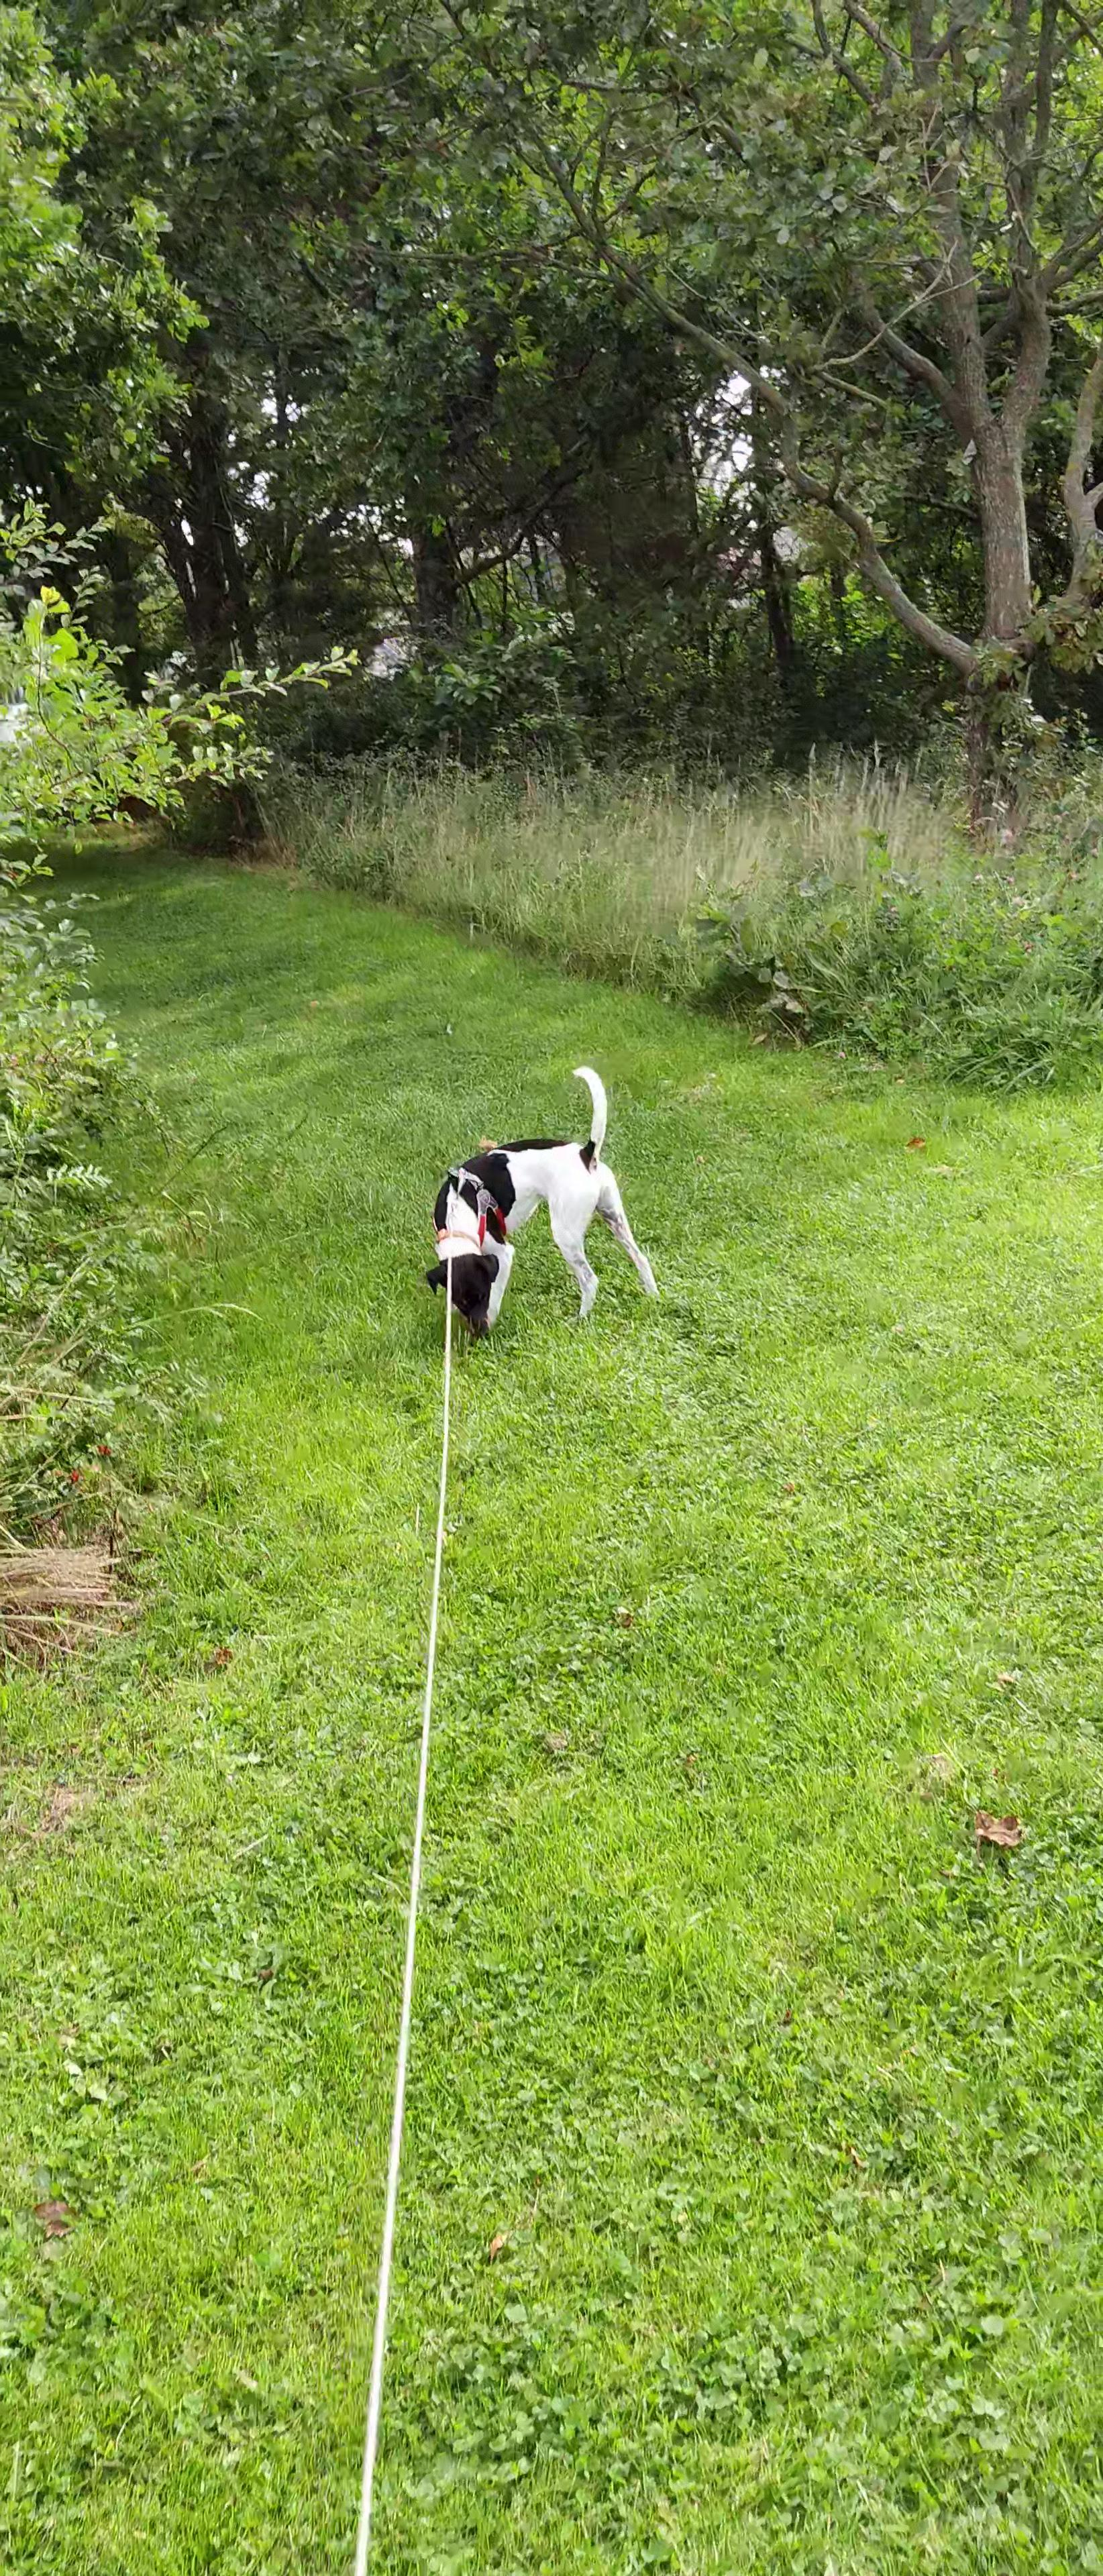Dog: (416, 1045, 672, 1347)
